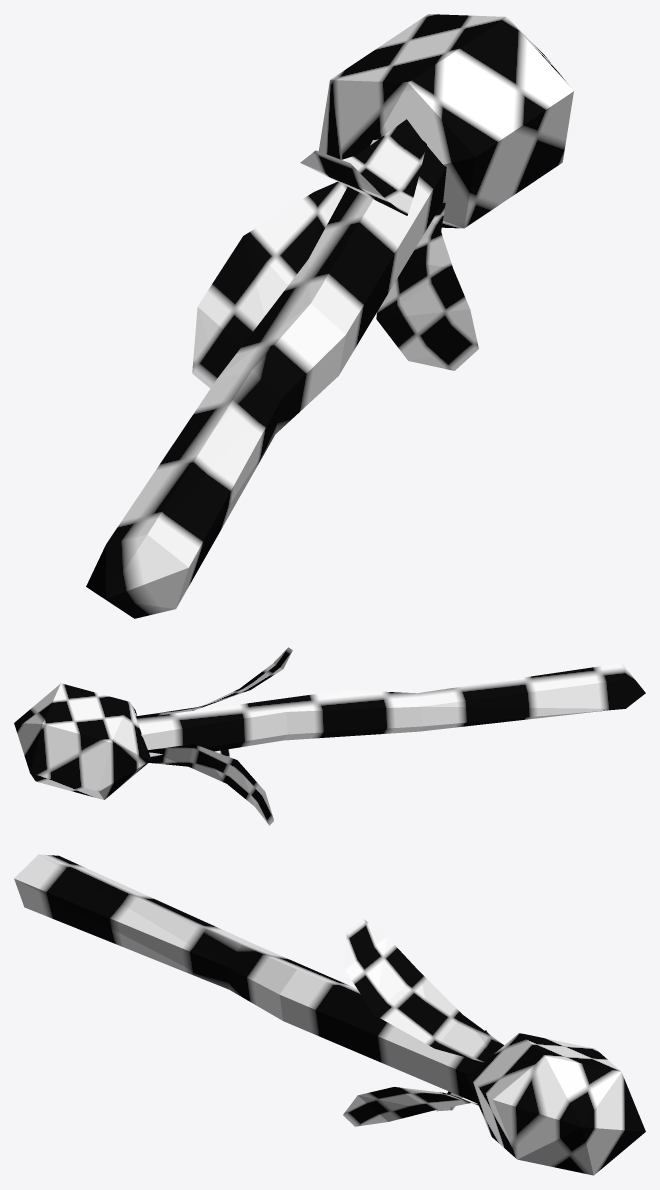
File: initqi26.dae
The picture shows the model from 3 angles, top to bottom: view 1: azimuth 30°, elevation 25°; view 2: azimuth 150°, elevation 25°; view 3: azimuth 270°, elevation 25°; orthographic projection. The views are drawn at different scales.
Parts seen in each view (by area): view 1: item; view 2: item; view 3: item.
Part boxes in pixels (x1=…): item: x1=86, y1=14, x2=573, y2=618; item: x1=14, y1=647, x2=645, y2=825; item: x1=14, y1=854, x2=645, y2=1175.
Size of the model in its own units: 1.68 by 1.63 by 0.5607.
1 material, 1 textured.
